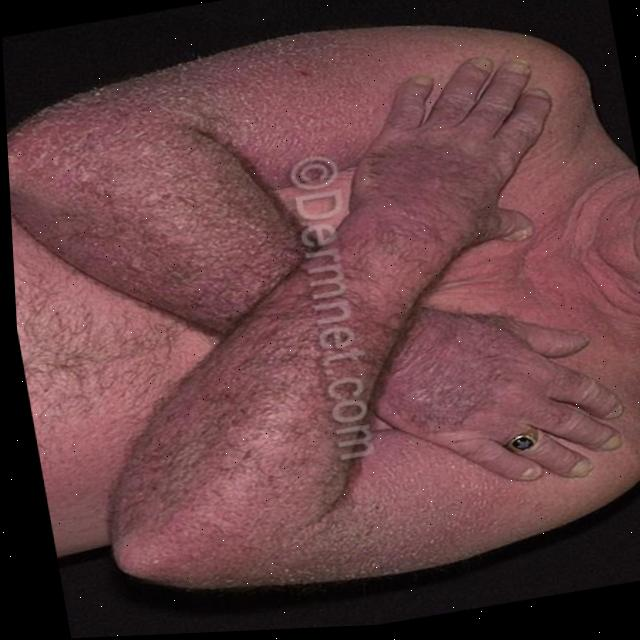Eczema: (28, 49, 342, 211), (173, 470, 527, 594)
